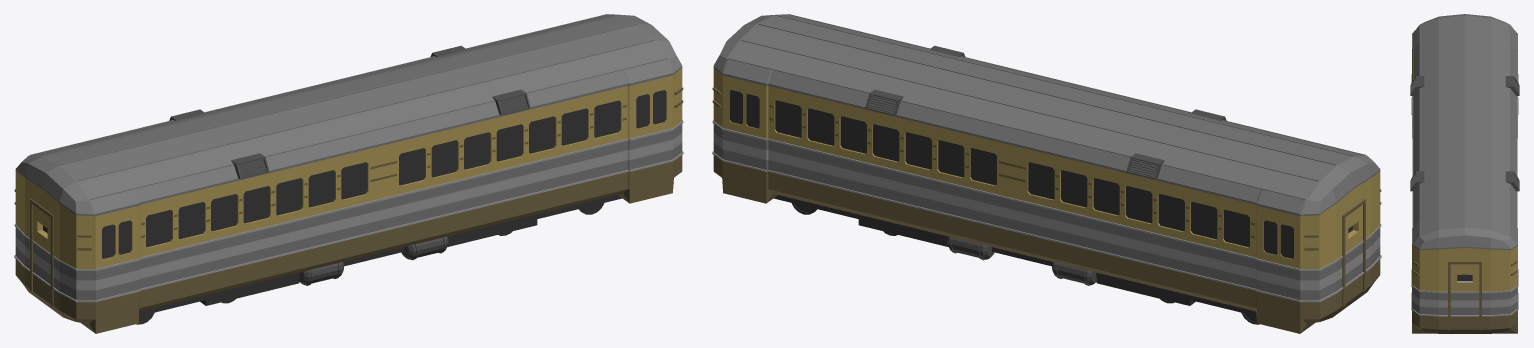
File: Cargo Train Wagon.glb
The picture shows the model from 3 angles, left to right: view 1: azimuth 30°, elevation 25°; view 2: azimuth 150°, elevation 25°; view 3: azimuth 270°, elevation 25°; orthographic projection. The views are drawn at different scales.
Parts seen in each view (by area): view 1: CargoTrain_Wagon; view 2: CargoTrain_Wagon; view 3: CargoTrain_Wagon.
Part boxes in pixels (left/top/right/bottom): CargoTrain_Wagon: left=14, top=14, right=683, bottom=333; CargoTrain_Wagon: left=712, top=14, right=1381, bottom=333; CargoTrain_Wagon: left=1410, top=14, right=1519, bottom=333.
Bounding box in the file's own units: 10.25 × 2.62 × 2.1.
